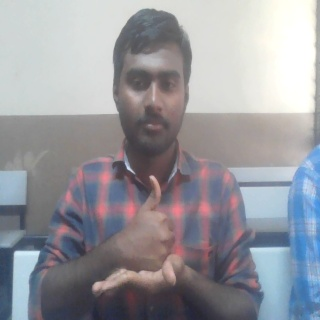Face: (111, 5, 194, 159)
Help: (89, 171, 190, 302)
